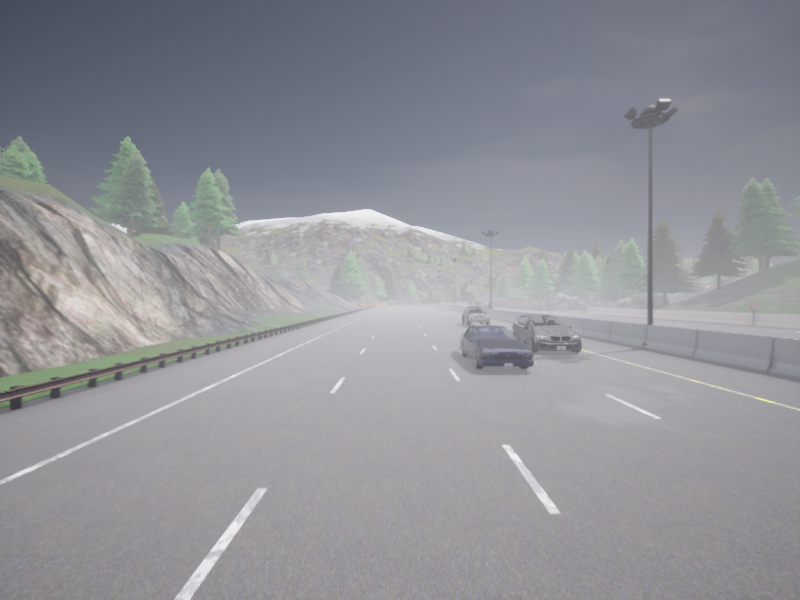vehicle: (459, 325, 534, 369), (512, 314, 581, 352), (462, 306, 489, 326), (481, 303, 491, 308), (473, 302, 480, 306), (480, 301, 484, 304), (469, 302, 473, 304)
